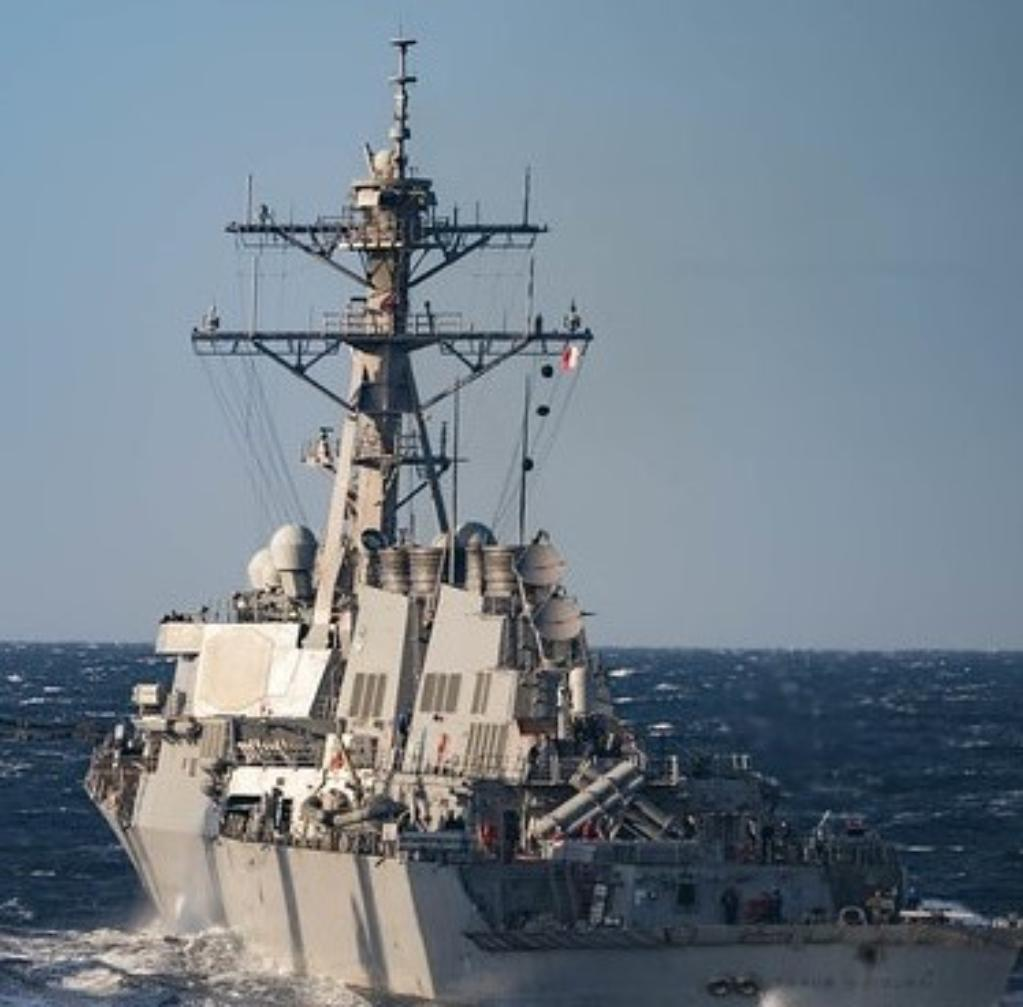Warship: (58, 25, 1023, 1007)
